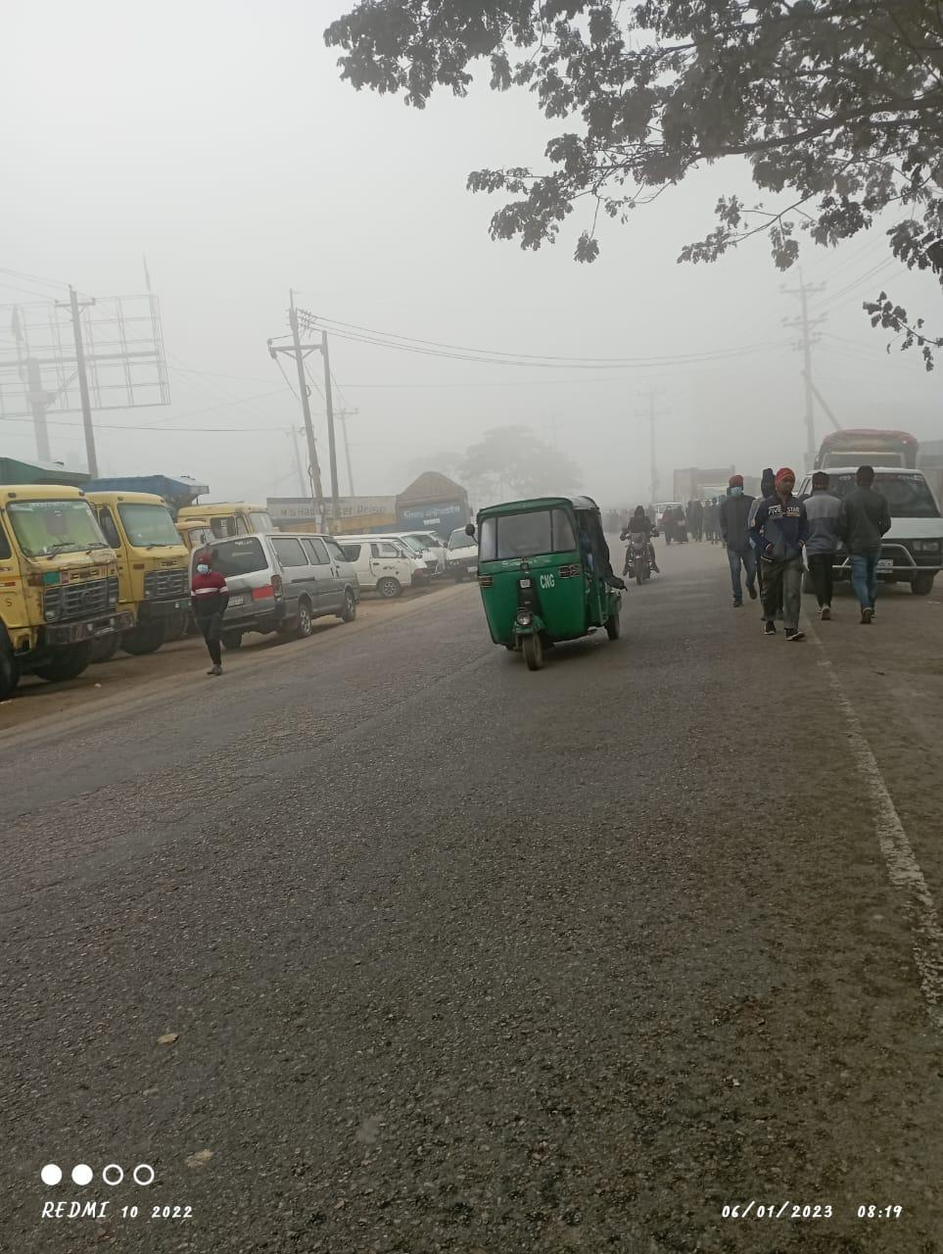Bike: (617, 501, 667, 588)
Car: (188, 522, 372, 639), (789, 458, 943, 589), (342, 522, 437, 607)
Truck: (2, 458, 121, 685), (98, 471, 200, 655)
